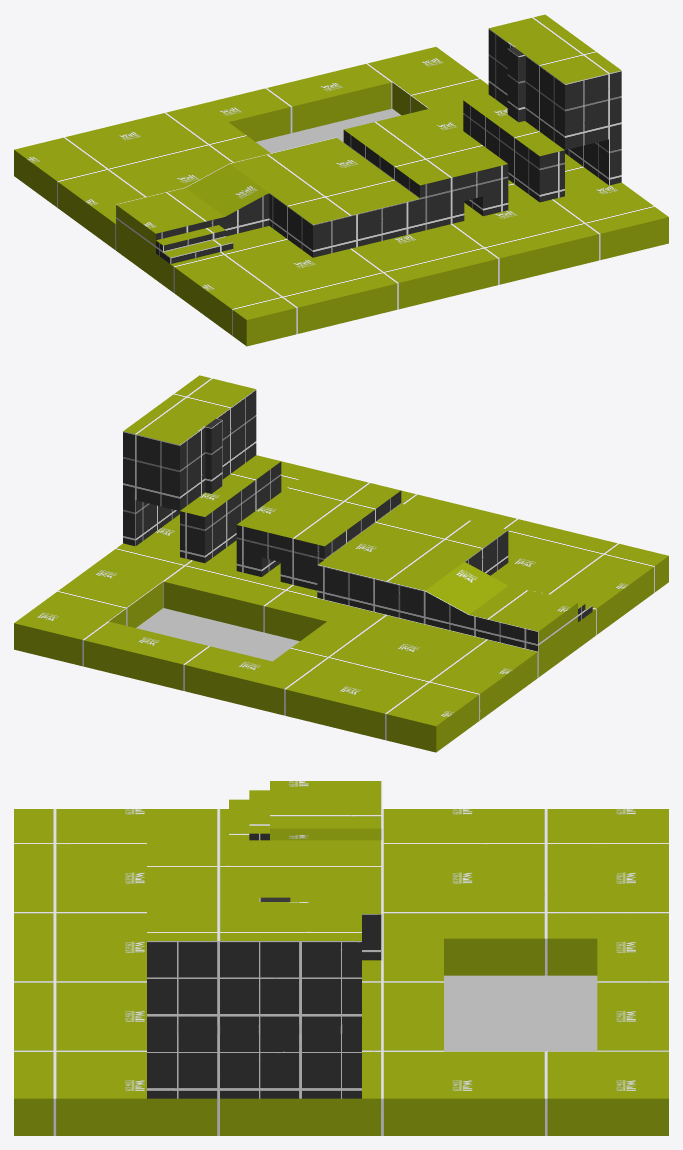
The model's file is platforms.obj.
3 renders of one model, top to bottom at view 1: azimuth 30°, elevation 25°; view 2: azimuth 150°, elevation 25°; view 3: azimuth 270°, elevation 25°, orthographic. The views are drawn at different scales.
Visible parts, largest first — view 1: entity0_brush0, entity0_brush2, entity0_brush14, entity0_brush11, entity0_brush15, entity0_brush4, entity0_brush9, entity0_brush13, entity0_brush1, entity0_brush3, entity0_brush8, entity0_brush7 (+5 smaller); view 2: entity0_brush0, entity0_brush14, entity0_brush2, entity0_brush11, entity0_brush15, entity0_brush13, entity0_brush4, entity0_brush9, entity0_brush1, entity0_brush16, entity0_brush3, entity0_brush8 (+3 smaller); view 3: entity0_brush0, entity0_brush11, entity0_brush15, entity0_brush13, entity0_brush14, entity0_brush12, entity0_brush2, entity0_brush16, entity0_brush1, entity0_brush3, entity0_brush4, entity0_brush5 (+1 smaller).
Part boxes in pixels (x1,y1,x2,y2): entity0_brush0: [94, 118, 668, 346]; entity0_brush2: [229, 137, 419, 257]; entity0_brush14: [14, 63, 392, 194]; entity0_brush11: [488, 14, 621, 149]; entity0_brush15: [39, 122, 270, 234]; entity0_brush4: [343, 119, 464, 231]; entity0_brush9: [463, 94, 564, 202]; entity0_brush13: [367, 47, 488, 121]; entity0_brush1: [116, 187, 225, 253]; entity0_brush3: [185, 163, 269, 236]; entity0_brush8: [407, 108, 508, 216]; entity0_brush7: [388, 114, 482, 200]; entity0_brush0: [94, 461, 668, 693]; entity0_brush14: [83, 621, 461, 752]; entity0_brush2: [317, 503, 508, 623]; entity0_brush11: [123, 375, 256, 510]; entity0_brush15: [273, 621, 516, 733]; entity0_brush13: [14, 564, 163, 666]; entity0_brush4: [280, 480, 401, 590]; entity0_brush9: [180, 455, 281, 563]; entity0_brush1: [468, 586, 577, 651]; entity0_brush16: [136, 608, 299, 661]; entity0_brush3: [424, 562, 508, 634]; entity0_brush8: [236, 469, 337, 576]; entity0_brush0: [14, 809, 443, 1135]; entity0_brush11: [147, 902, 361, 1033]; entity0_brush15: [444, 809, 597, 975]; entity0_brush13: [444, 1051, 668, 1135]; entity0_brush14: [597, 809, 668, 1051]; entity0_brush12: [147, 1024, 361, 1098]; entity0_brush2: [147, 840, 382, 960]; entity0_brush16: [444, 975, 597, 1051]; entity0_brush1: [270, 781, 382, 828]; entity0_brush3: [270, 828, 382, 840]; entity0_brush4: [147, 895, 361, 901]; entity0_brush5: [249, 790, 269, 840].
Size of the model in its own units: 1072 by 352 by 1024.
